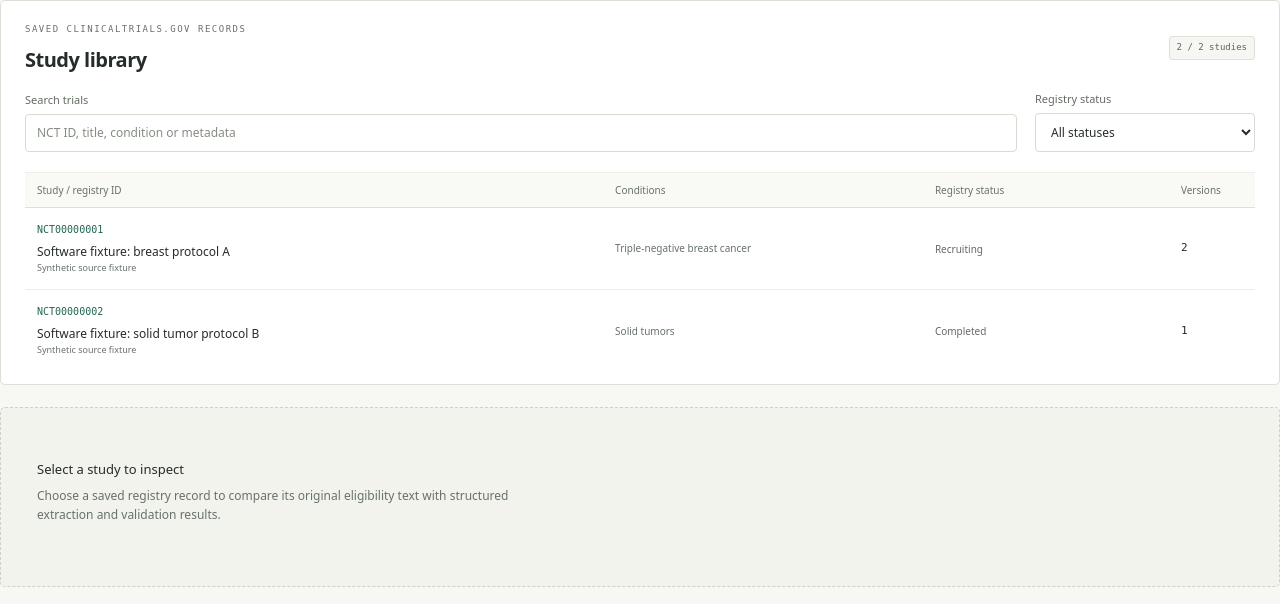
Test: searches saved metadata: NCT00000002
In the search field labelled "Search trials": [521, 132] box [25,114,1017,152], type "NCT00000002"
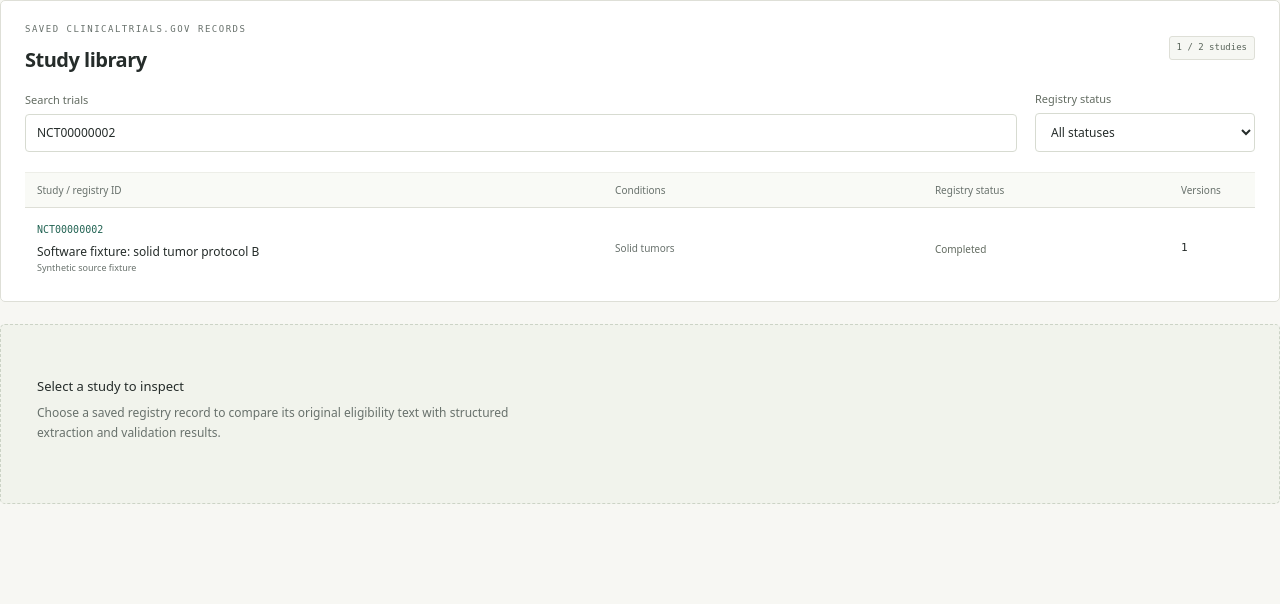
Expected: the number of buttons named "Inspect extraction for" is 1, [25,208,603,289]
